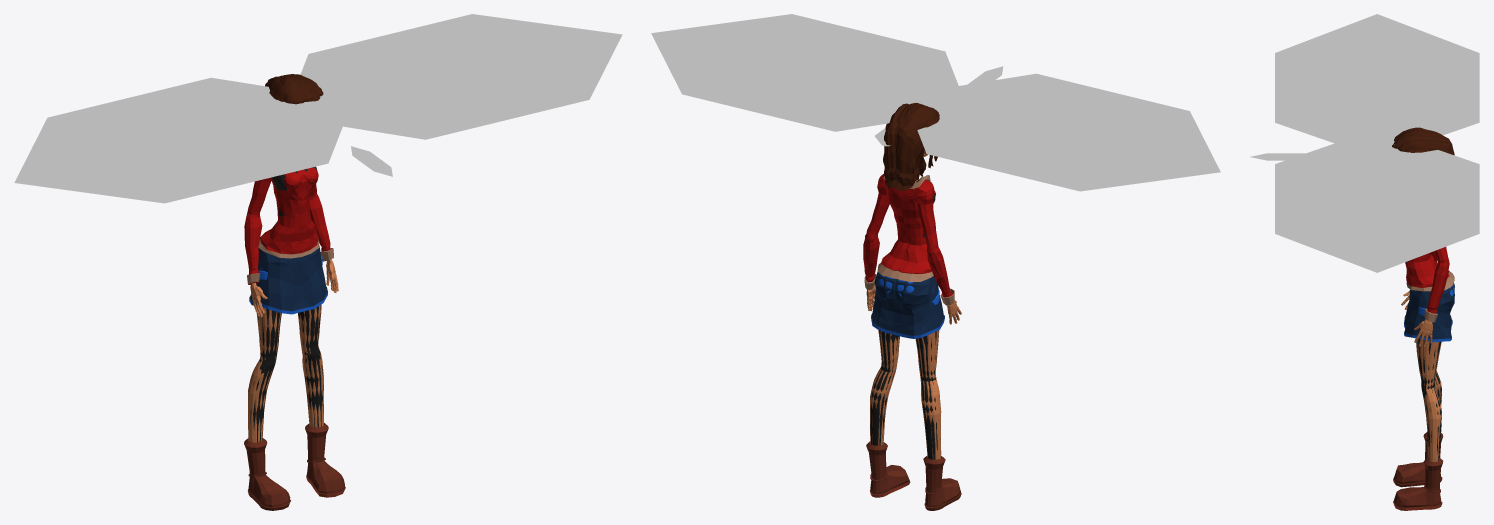
Rendered from Dana_Low_3.obj.
The picture shows the model from 3 angles, left to right: view 1: azimuth 30°, elevation 25°; view 2: azimuth 150°, elevation 25°; view 3: azimuth 270°, elevation 25°; orthographic projection. The views are drawn at different scales.
Parts seen in each view (by area): view 1: Eye_custom_Plane.003, Alex.LowPoly_Dana.Low, Alex.Leggins_Dana.Leggins; view 2: Eye_custom_Plane.003, Alex.LowPoly_Dana.Low, Alex.Leggins_Dana.Leggins; view 3: Eye_custom_Plane.003, Alex.LowPoly_Dana.Low, Alex.Leggins_Dana.Leggins, Eye_close_custom_Plane.002.
Boxes of the visible parts, box(x1,y1,x2,y2) form: Eye_custom_Plane.003: box(14, 14, 622, 203); Alex.LowPoly_Dana.Low: box(244, 74, 345, 510); Alex.Leggins_Dana.Leggins: box(250, 305, 323, 442); Eye_custom_Plane.003: box(651, 14, 1220, 191); Alex.LowPoly_Dana.Low: box(863, 103, 961, 510); Alex.Leggins_Dana.Leggins: box(870, 330, 940, 459); Eye_custom_Plane.003: box(1275, 14, 1479, 272); Alex.LowPoly_Dana.Low: box(1392, 127, 1454, 510); Alex.Leggins_Dana.Leggins: box(1416, 339, 1441, 460); Eye_close_custom_Plane.002: box(1250, 153, 1305, 160).
Size of what is drawn, in the model's own units: 3.04 by 1.99 by 1.14.
